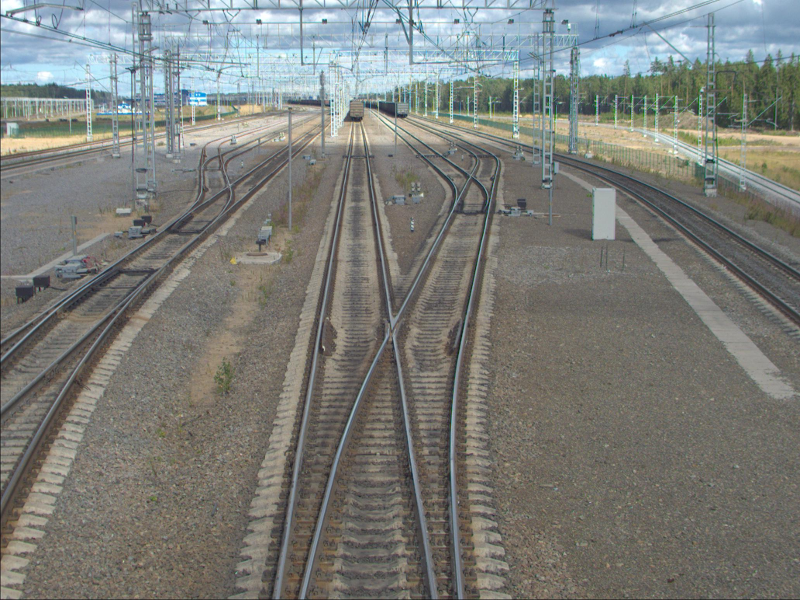right: (450, 177, 490, 214)
